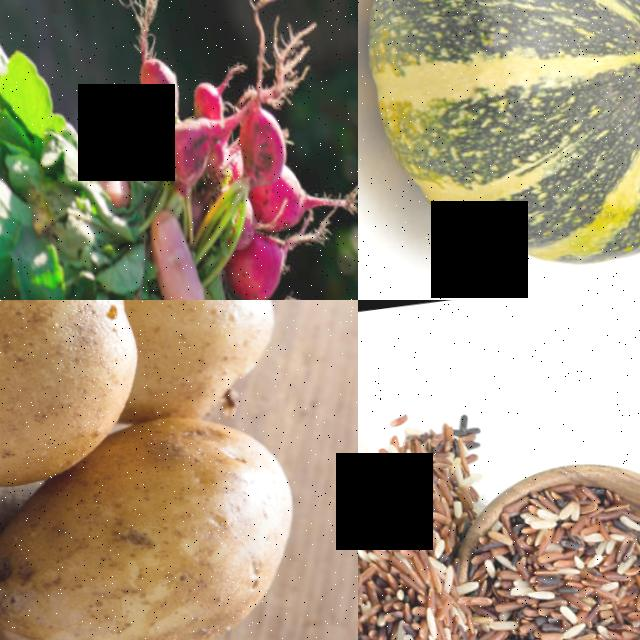potato: (0, 428, 318, 640), (0, 300, 160, 495), (101, 300, 291, 416)
pumpkin: (358, 0, 640, 295)
radishes: (18, 33, 341, 300)
red rice: (358, 408, 521, 640), (457, 479, 640, 640)
